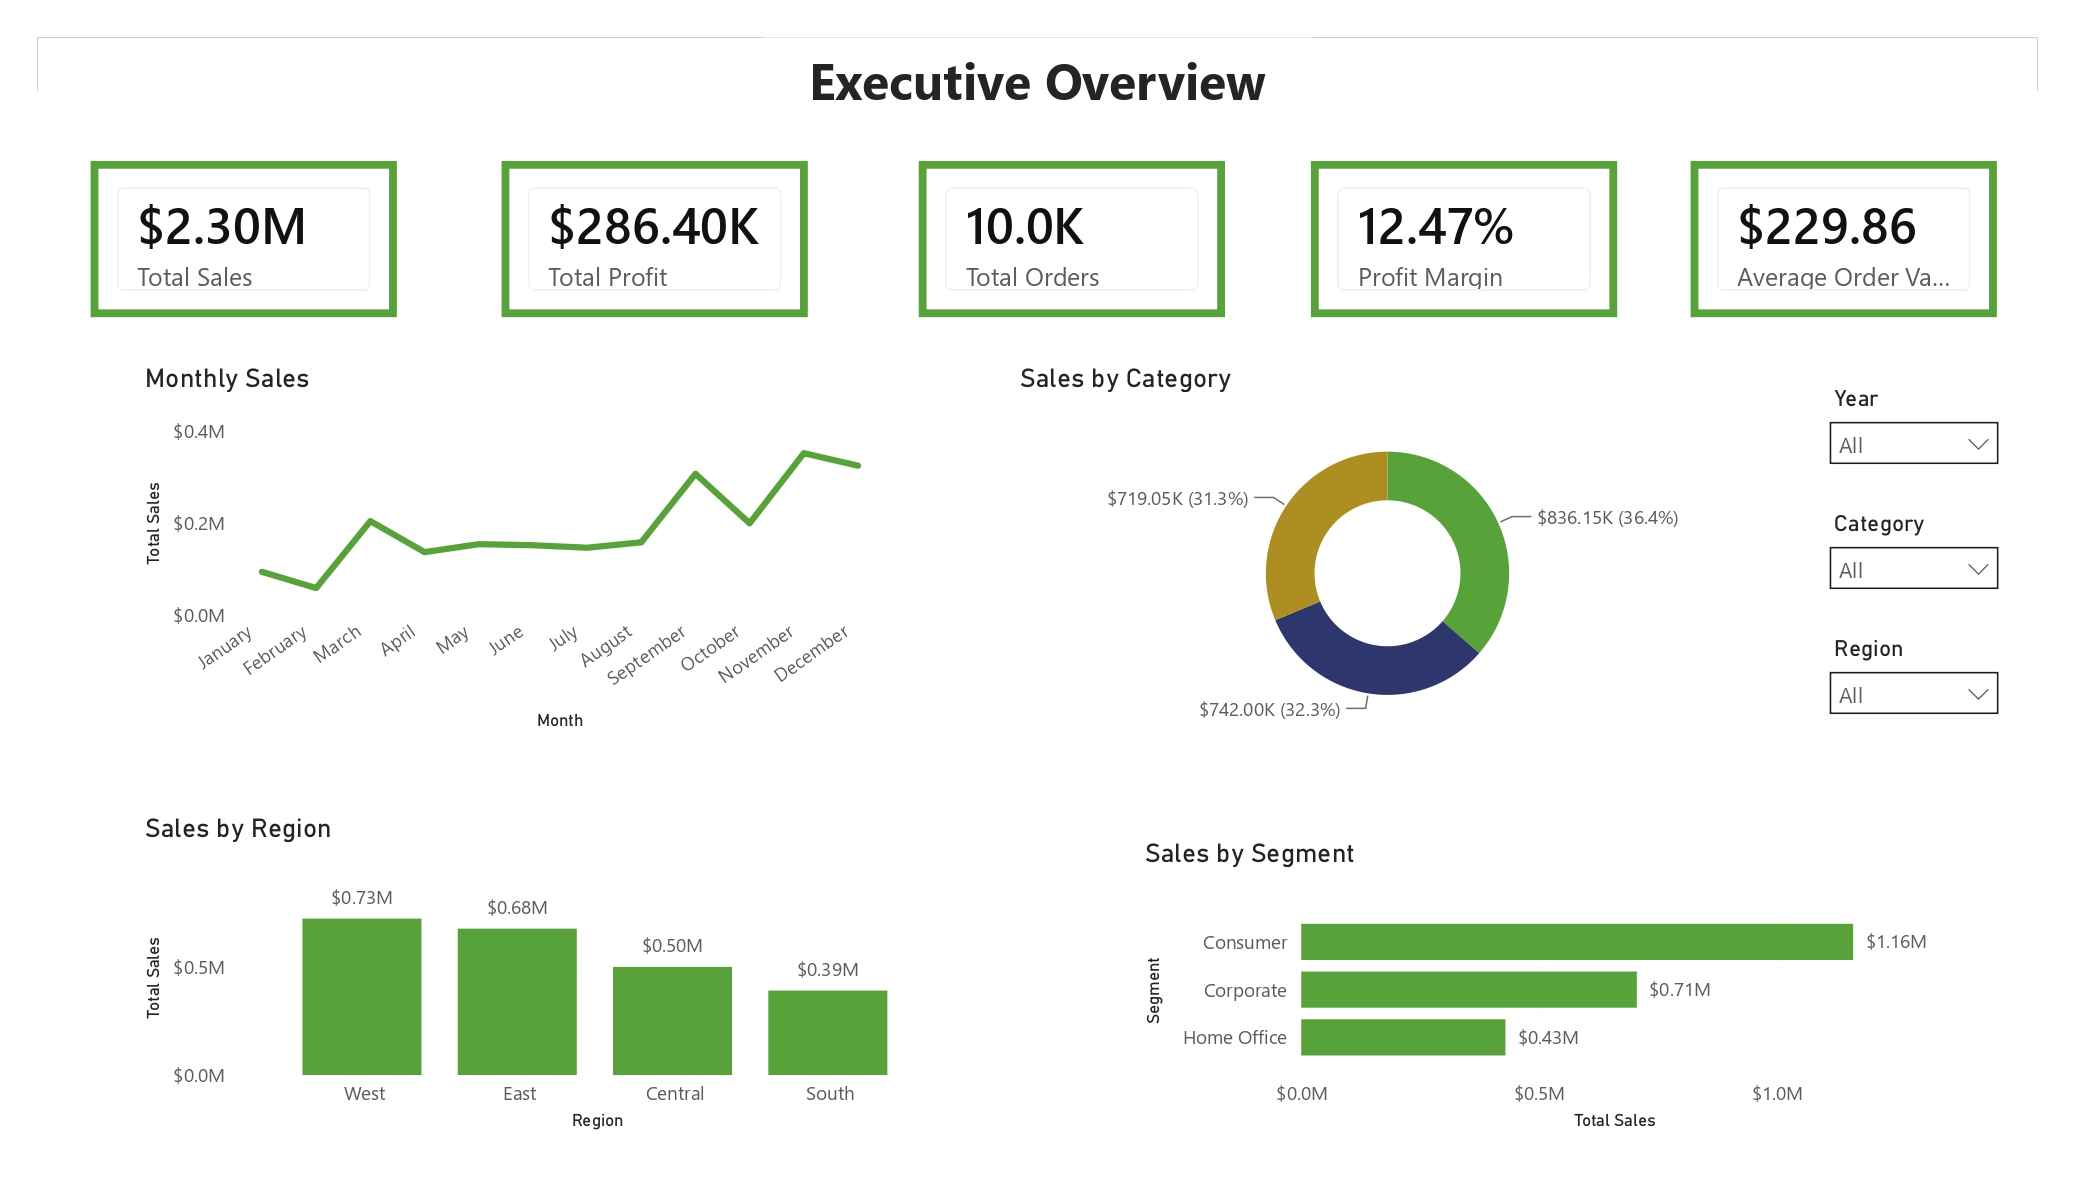

Layout of this report page (visuals, bound fields, positions):
{"tool":"powerbi","page":{"name":"Executive Overview","canvas":[1280,720],"ordinal":1},"visuals":[{"type":"cardVisual","fields":{"Data":["Date.Total Sales"]},"box":[34.2,79,196,100],"z":0},{"type":"cardVisual","fields":{"Data":["orders.Total Orders"]},"box":[564.4,79,196,100],"z":1000},{"type":"cardVisual","fields":{"Data":["orders.Profit Margin"]},"box":[814.7,79,196,100],"z":2000},{"type":"cardVisual","fields":{"Data":["orders.Total Profit"]},"box":[297.1,79,196,100],"z":3000},{"type":"cardVisual","fields":{"Data":["orders.Average Order Value"]},"box":[1057.5,79,196,100],"z":4000},{"type":"lineChart","title":"Monthly Sales ","fields":{"Y":["orders.Total Sales"],"Category":["Date.Date Hierarchy.Month"]},"box":[64,208,480,240],"z":5000},{"type":"clusteredColumnChart","title":"Sales by Region","fields":{"Category":["orders.Region"],"Y":["orders.Total Sales"]},"box":[64,496,528,208],"z":6000},{"type":"donutChart","title":"Sales by Category","fields":{"Category":["orders.Category"],"Y":["orders.Total Sales"]},"box":[624,208,480,240],"z":7000},{"type":"clusteredBarChart","title":"Sales by Segment","fields":{"Category":["orders.Segment"],"Y":["orders.Total Sales"]},"box":[704,512,528,192],"z":8000},{"type":"slicer","fields":{"Values":["Date.Date Hierarchy.Year"]},"box":[1137.3,218,128,64],"z":9000},{"type":"slicer","fields":{"Values":["orders.Region"]},"box":[1137.3,378,128,64],"z":10000},{"type":"slicer","fields":{"Values":["orders.Category"]},"box":[1137.3,298,128,64],"z":11000},{"type":"textbox","box":[464,0,352,64],"z":12000}]}

Visuals, with their boxes on the page's 1280x720 design canvas (x1, y1, x2, y2). These are canvas units, not pixel positions in the 2075x1200 screenshot, which may show the page scaled, cropped or inside an application window:
cardVisual - Date.Total Sales: Rect(34, 79, 230, 179)
cardVisual - orders.Total Orders: Rect(564, 79, 760, 179)
cardVisual - orders.Profit Margin: Rect(815, 79, 1011, 179)
cardVisual - orders.Total Profit: Rect(297, 79, 493, 179)
cardVisual - orders.Average Order Value: Rect(1058, 79, 1254, 179)
"Monthly Sales " lineChart: Rect(64, 208, 544, 448)
"Sales by Region" clusteredColumnChart: Rect(64, 496, 592, 704)
"Sales by Category" donutChart: Rect(624, 208, 1104, 448)
"Sales by Segment" clusteredBarChart: Rect(704, 512, 1232, 704)
slicer - Date.Date Hierarchy.Year: Rect(1137, 218, 1265, 282)
slicer - orders.Region: Rect(1137, 378, 1265, 442)
slicer - orders.Category: Rect(1137, 298, 1265, 362)
textbox: Rect(464, 0, 816, 64)
